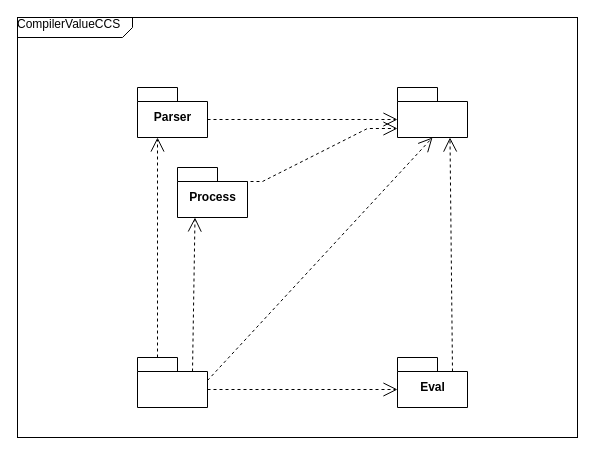
Some shapes in this 595 by 455 pixel diagram are drawn without their labels. Here are the shapes that lost their labels. From the top down, the box of each, then its label:
(396, 86, 468, 138): Ast
(136, 356, 208, 408): Compiler
